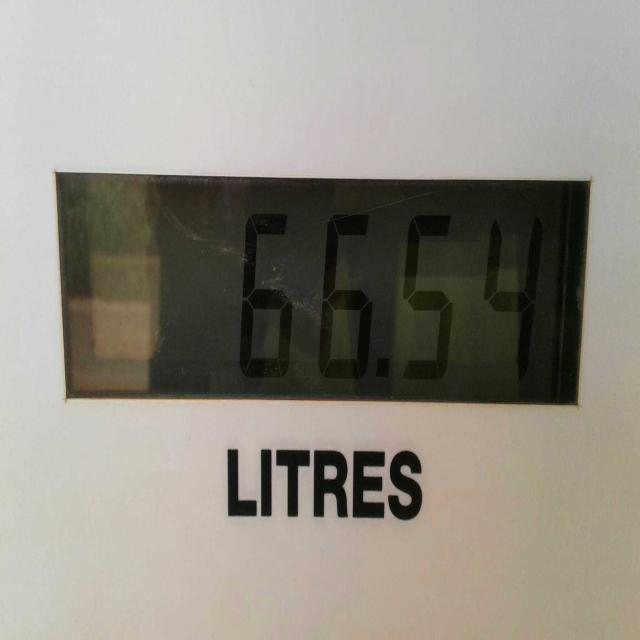.: (377, 345, 394, 394)
4: (476, 210, 552, 404)
5: (394, 196, 468, 387)
6: (300, 199, 390, 397), (228, 203, 300, 385)
